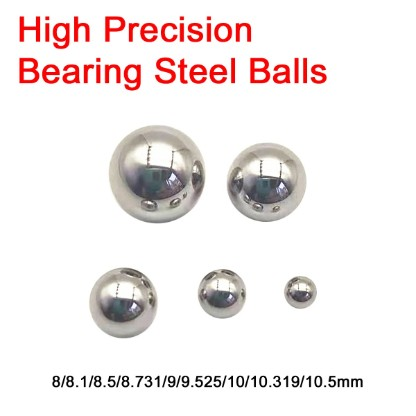ironball: (108, 124, 205, 223), (226, 141, 306, 221), (88, 266, 157, 338), (197, 268, 246, 318), (283, 275, 316, 308)
